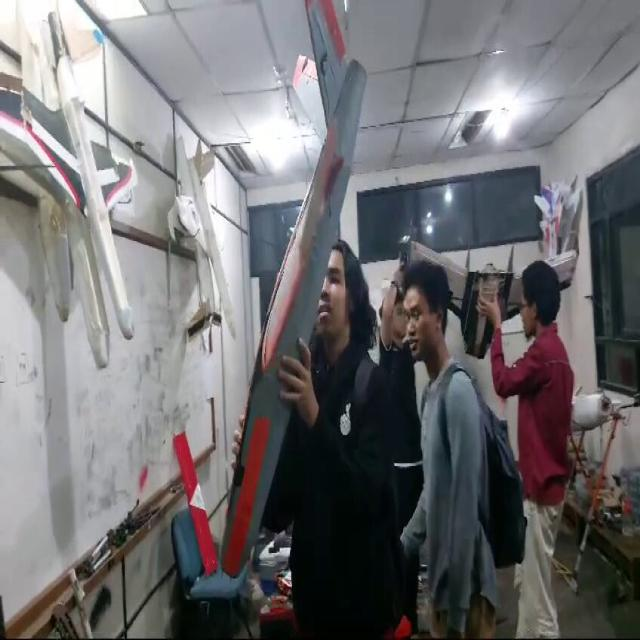plane: (198, 0, 409, 595)
